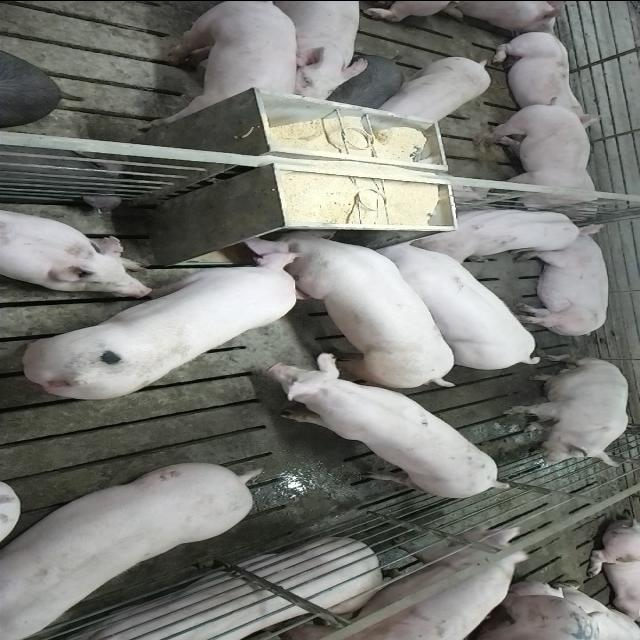Feeding: (14, 240, 310, 400), (246, 223, 471, 395)
Lateral_lying: (74, 533, 390, 640), (514, 220, 612, 340)
Sitting: (502, 348, 636, 468)
Standing: (0, 458, 258, 640), (253, 352, 517, 498), (284, 523, 536, 640), (378, 236, 548, 370), (144, 0, 302, 123), (469, 95, 607, 216), (280, 0, 370, 100), (378, 54, 498, 124)
Sternal_lying: (0, 206, 156, 298), (484, 29, 604, 125), (446, 0, 568, 36)
